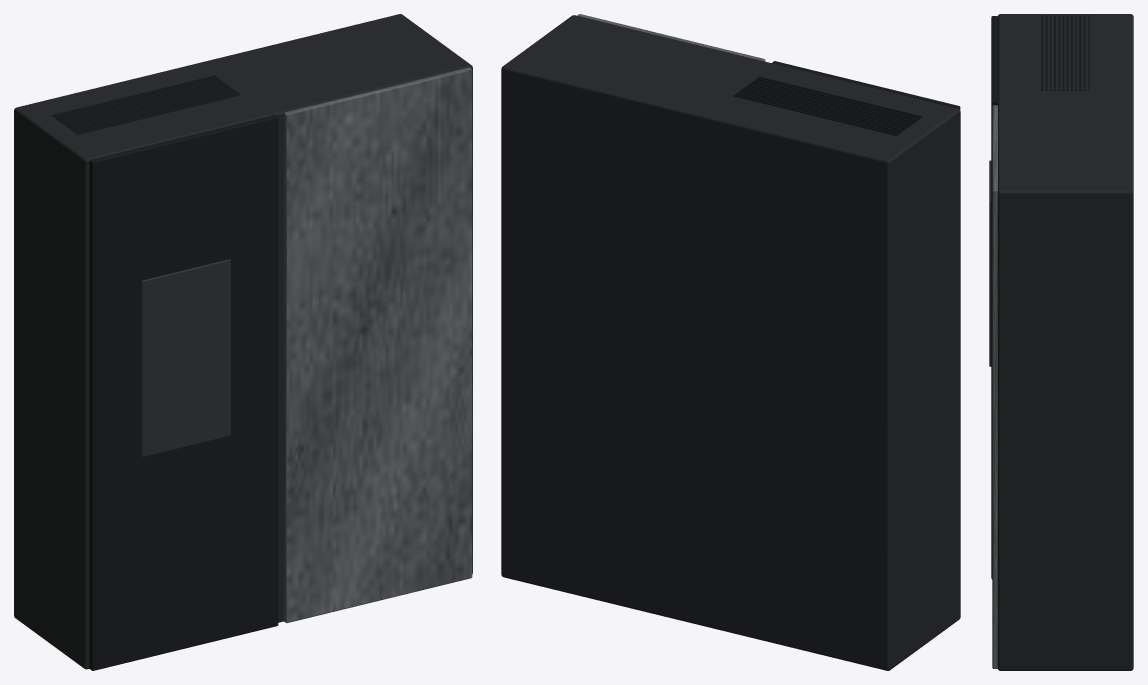
File: nordica-sharon-plus-petra-pietra.glb
The picture shows the model from 3 angles, left to right: view 1: azimuth 30°, elevation 25°; view 2: azimuth 150°, elevation 25°; view 3: azimuth 270°, elevation 25°; orthographic projection. The views are drawn at different scales.
Parts seen in each view (by area): view 1: Pannello laterale.007, Sportello.001, Corpo.004, Vetro porta.001; view 2: Corpo.004, Sportello.001; view 3: Corpo.004, Pannello laterale.007, Sportello.001, Vetro porta.001.
Part boxes in pixels (x1,y1,x2,y2): Pannello laterale.007: (284, 67, 472, 622); Sportello.001: (89, 115, 278, 670); Corpo.004: (14, 14, 472, 669); Vetro porta.001: (141, 259, 230, 457); Corpo.004: (501, 15, 960, 670); Sportello.001: (772, 61, 960, 109); Corpo.004: (997, 14, 1133, 670); Pannello laterale.007: (992, 105, 997, 668); Sportello.001: (991, 16, 997, 579); Vetro porta.001: (989, 160, 991, 366).
Bounding box in the file's own units: 0.9 × 1.14 × 0.3075.
Materials: 4 (1 with a texture image).
